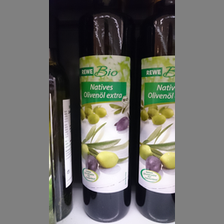oil: (77, 3, 135, 223), (132, 1, 175, 224)
